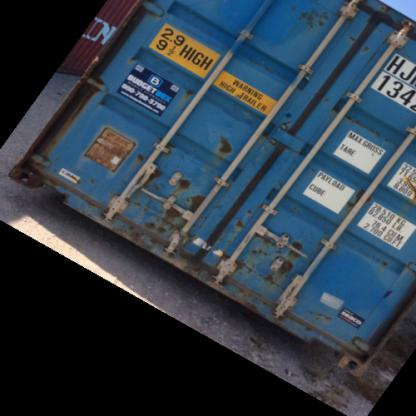Damage: (146, 160, 205, 236), (239, 225, 306, 290), (290, 2, 339, 37), (302, 303, 340, 327), (215, 130, 235, 160), (350, 29, 373, 54), (400, 171, 415, 201)
